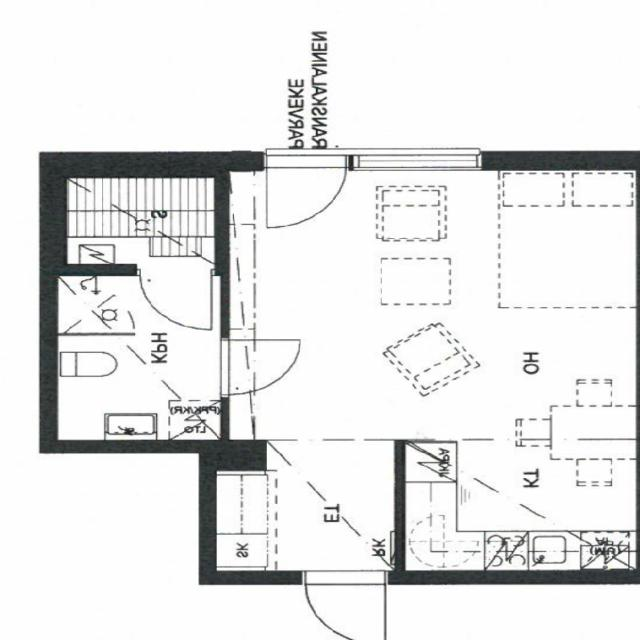door: (267, 152, 346, 230), (306, 569, 386, 640), (141, 264, 211, 328), (221, 341, 300, 394)
